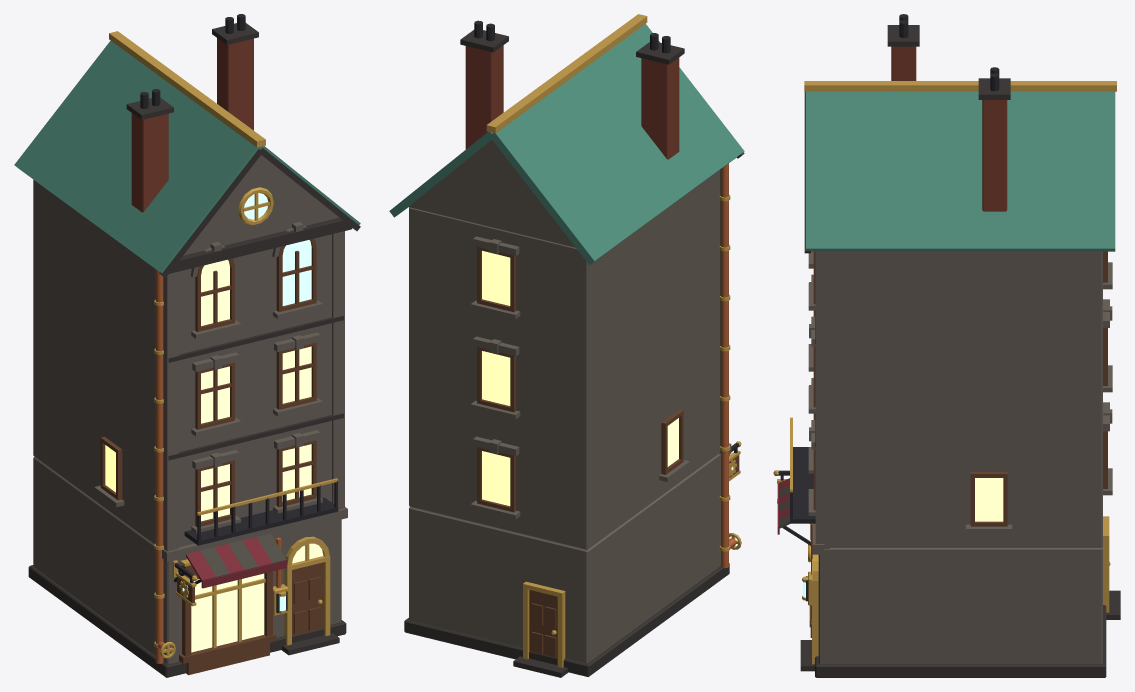
The model's file is CasaEstreitaB.fbx.
The picture shows the model from 3 angles, left to right: view 1: azimuth 30°, elevation 25°; view 2: azimuth 150°, elevation 25°; view 3: azimuth 270°, elevation 25°; orthographic projection. The views are drawn at different scales.
Visible parts, largest first — view 1: Corpo, JanelaAndar0, JanelaAndar1, JanelaAndar2, JanelaCristal, JanelaAndar3; view 2: Corpo, JanelaAndar1, JanelaAndar3, JanelaAndar2; view 3: Corpo, JanelaAndar1.
Boxes of the visible parts, <box> form: Corpo: <box>14,14,360,677</box>; JanelaAndar0: <box>191,543,323,652</box>; JanelaAndar1: <box>105,444,311,521</box>; JanelaAndar2: <box>201,346,311,423</box>; JanelaCristal: <box>244,193,311,305</box>; JanelaAndar3: <box>201,259,229,325</box>; Corpo: <box>389,14,744,677</box>; JanelaAndar1: <box>482,418,678,505</box>; JanelaAndar3: <box>482,250,510,305</box>; JanelaAndar2: <box>482,351,510,405</box>; Corpo: <box>773,14,1120,677</box>; JanelaAndar1: <box>975,478,1003,521</box>.
Size of the model in its own units: 6.87 by 18.41 by 9.77.
